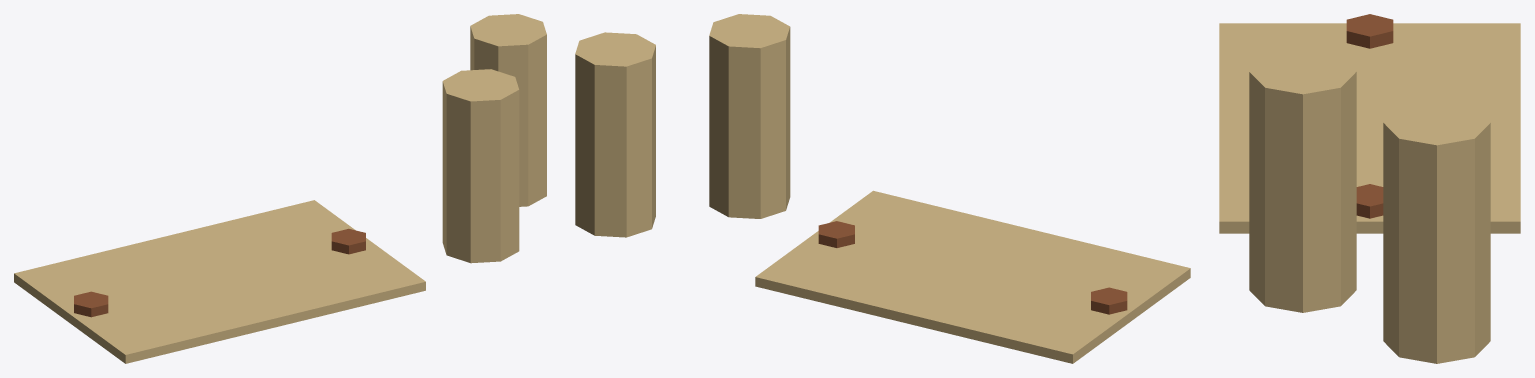
Rendered from scroll_set.obj.
The picture shows the model from 3 angles, left to right: view 1: azimuth 30°, elevation 25°; view 2: azimuth 150°, elevation 25°; view 3: azimuth 270°, elevation 25°; orthographic projection. The views are drawn at different scales.
Bounding box in the file's own units: 1.16 × 0.36 × 0.45.
